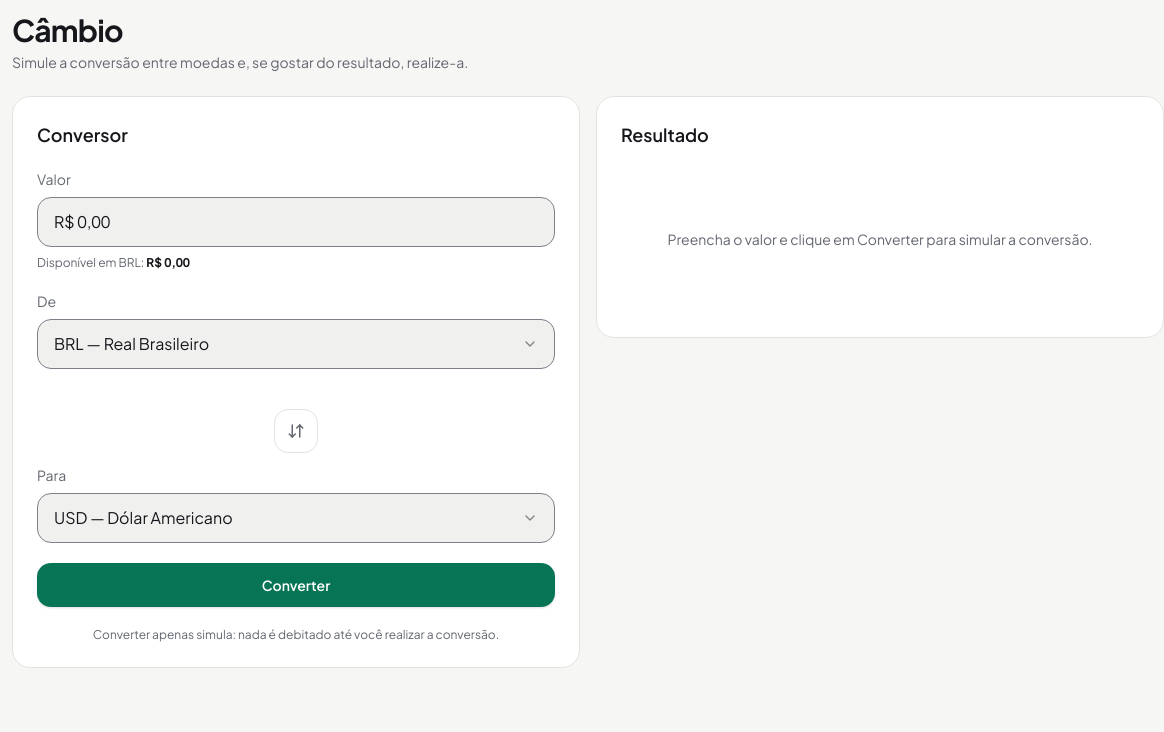
Test: Exchange (simular e depois realizar) › 'Realizar conversão' executa, mostra o que FOI executado e limpa o formulário
This screenshot has width=1164, height=732.
Expected: the heading "Câmbio" is shown, [12,11,123,49]
Replace the text in the field named "Valor a converter" with "1000" at [296, 222], box [37,197,555,247]
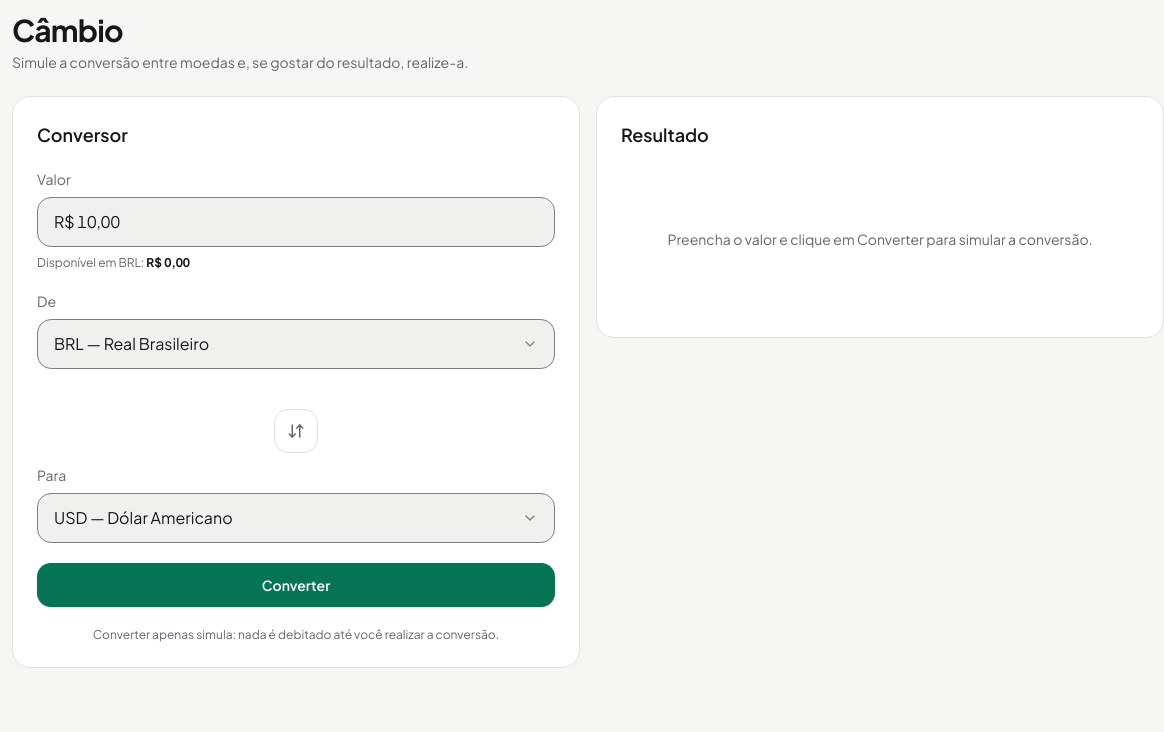
Click the button "Converter".
click(296, 585)  # box [37,563,555,607]
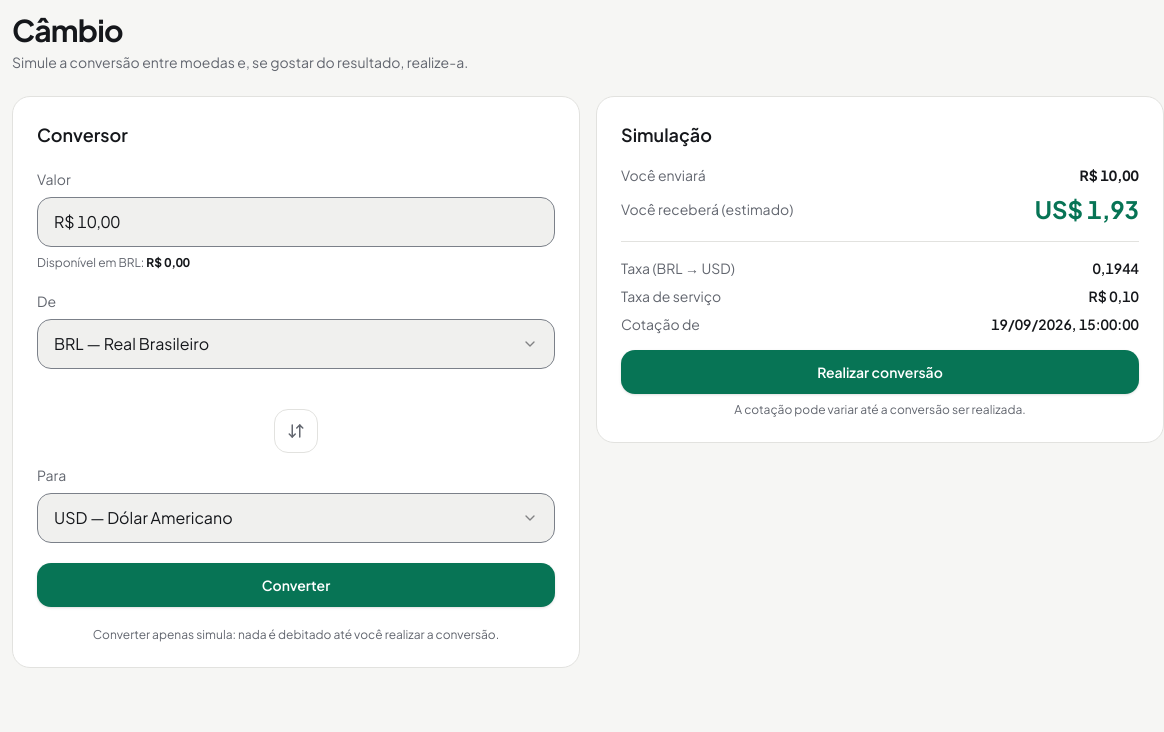
Result: the button "Realizar conversão" is shown
Click the button "Realizar conversão".
click(880, 372)  # box [621,350,1139,394]
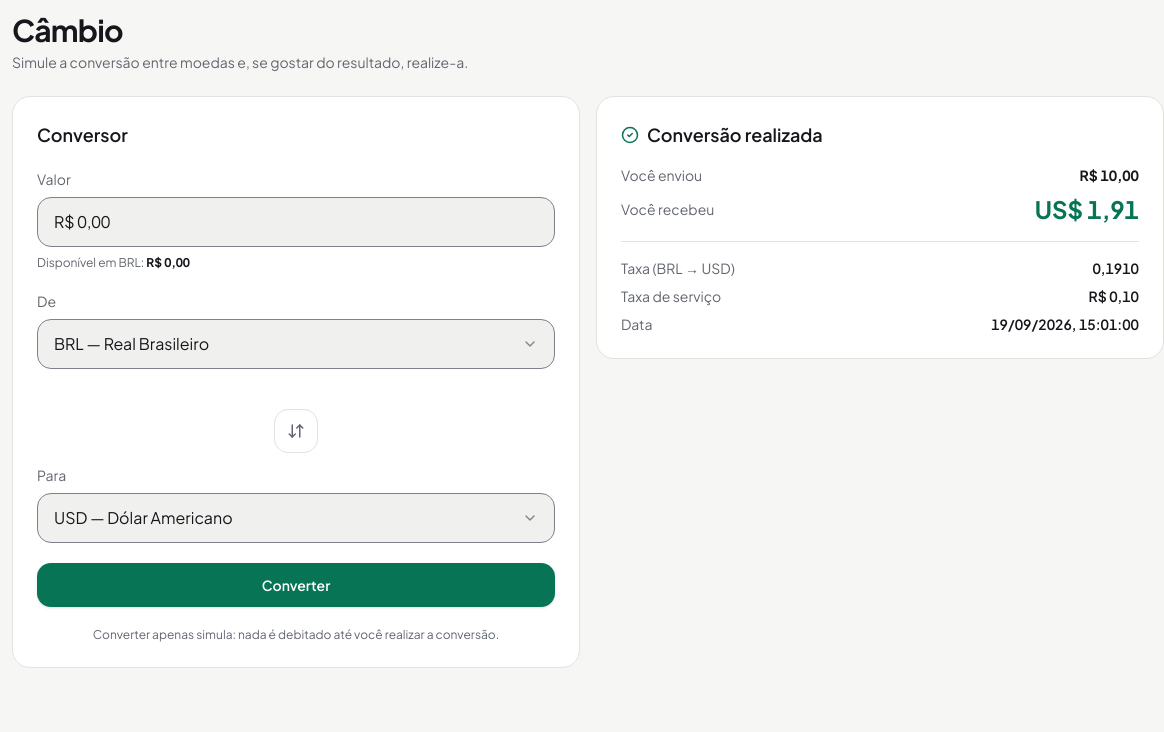
Result: the heading "Conversão realizada" is shown at [621,123,823,146]
Result: the text "0,1910" is shown at [1092,258,1139,278]
Result: the text "US$ 1,91" is shown at [1035,193,1139,225]
